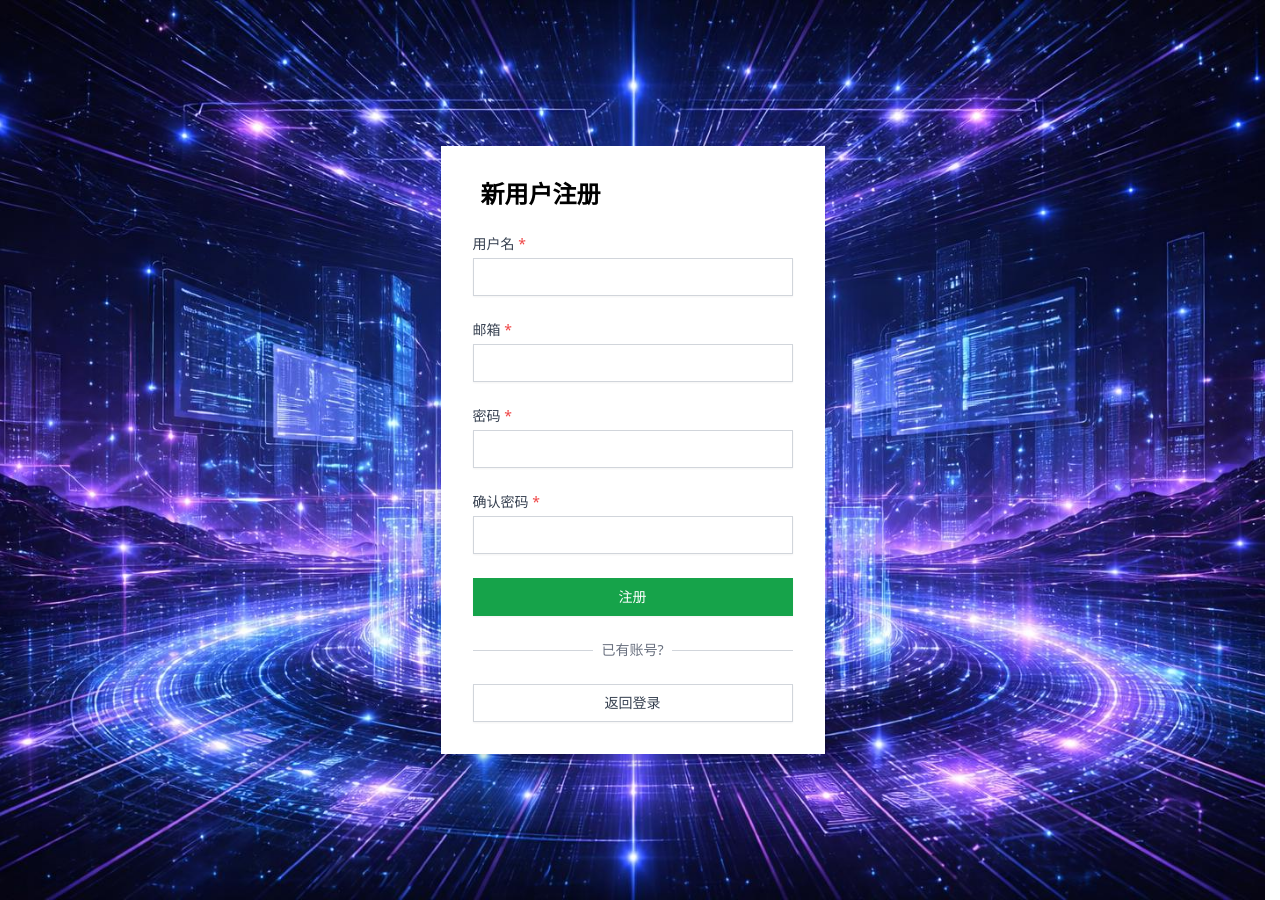
Test case: Register (branch coverage) › shows fallback error when register request throws non-Error
Type "testuser" into the field labelled "用户名 *" at (632, 277), box [472,258,792,296]
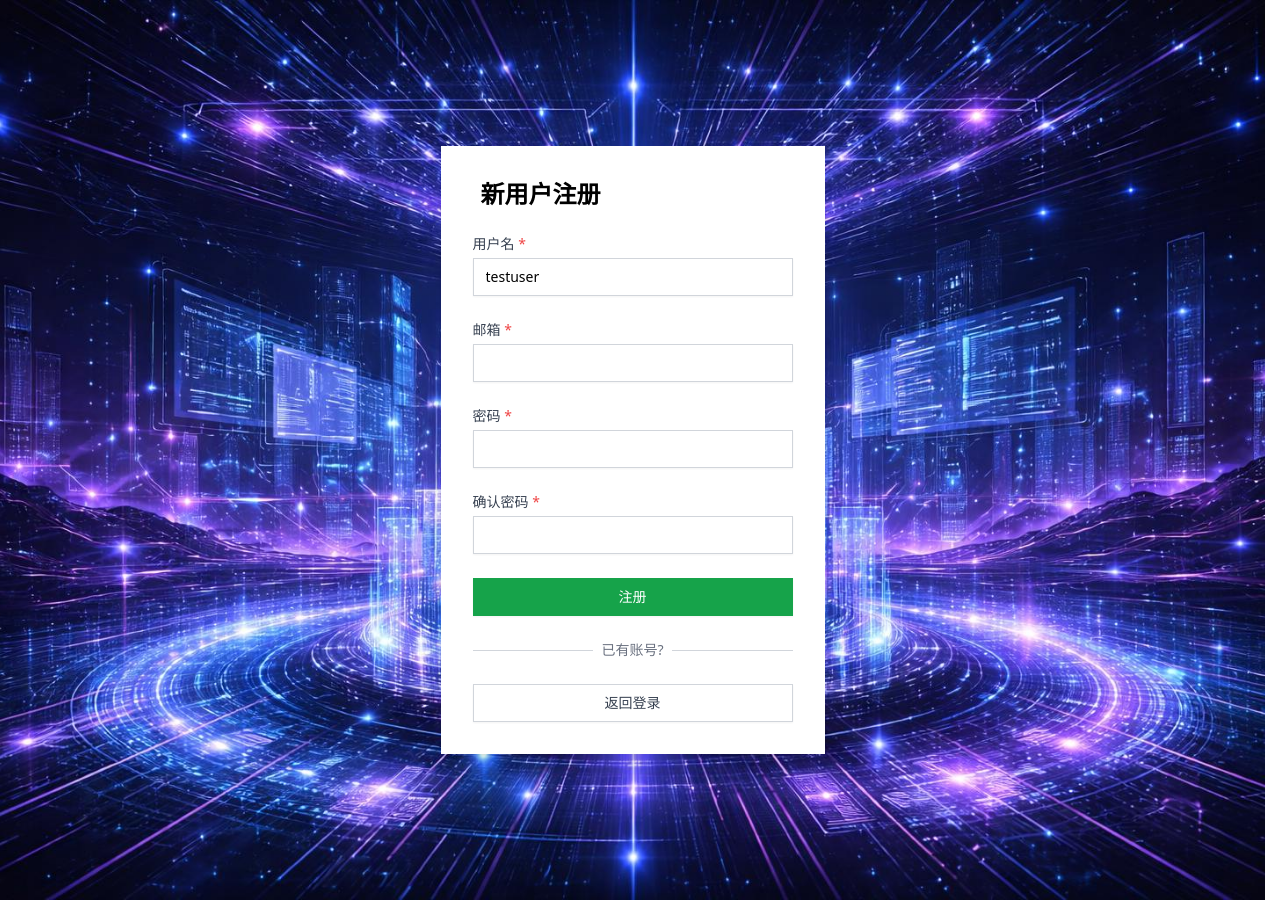
Type "test@example.com" into the field labelled "邮箱 *" at (632, 363), box [472,344,792,382]
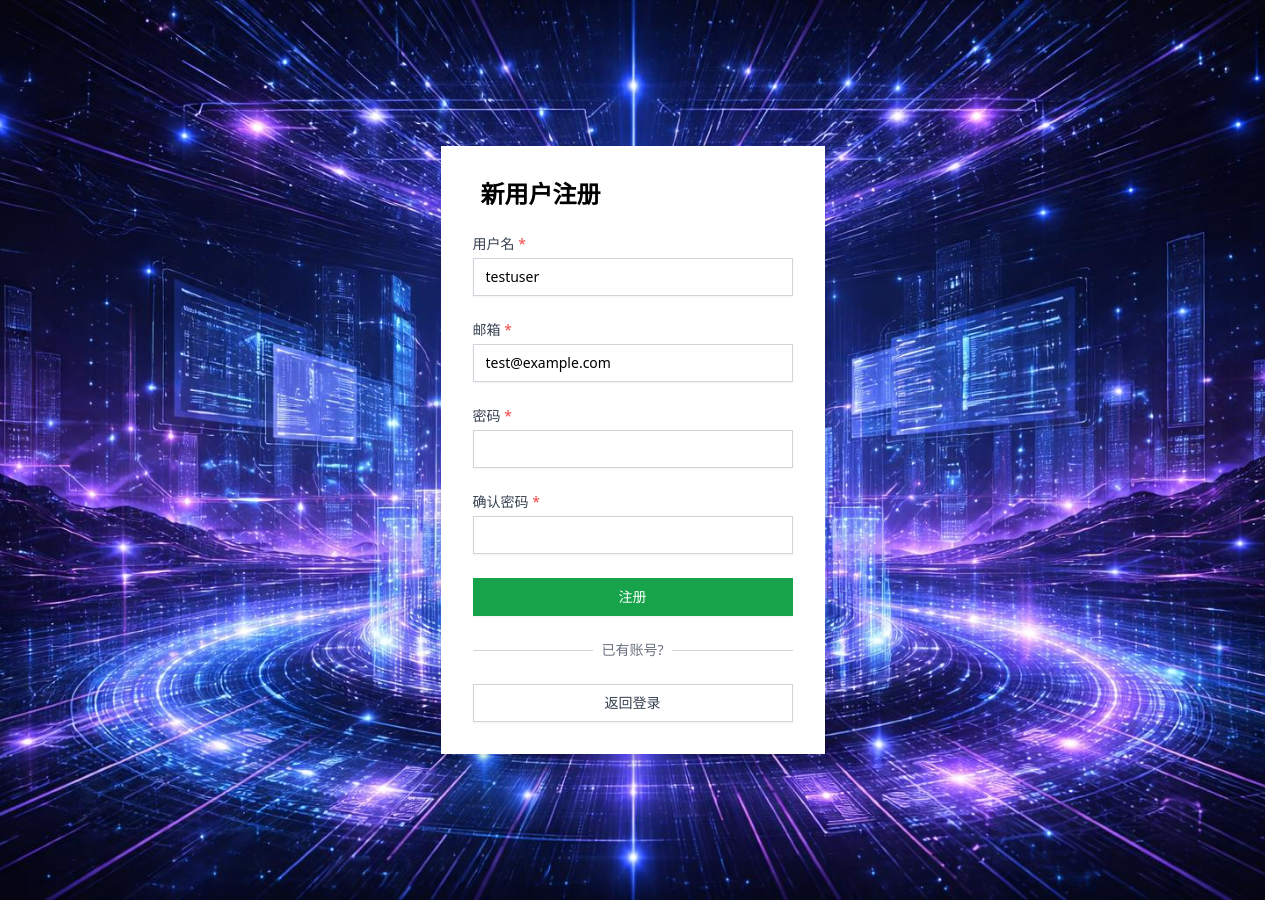
Type "123456" into the password field labelled "密码 *" at (632, 449), box [472,430,792,468]
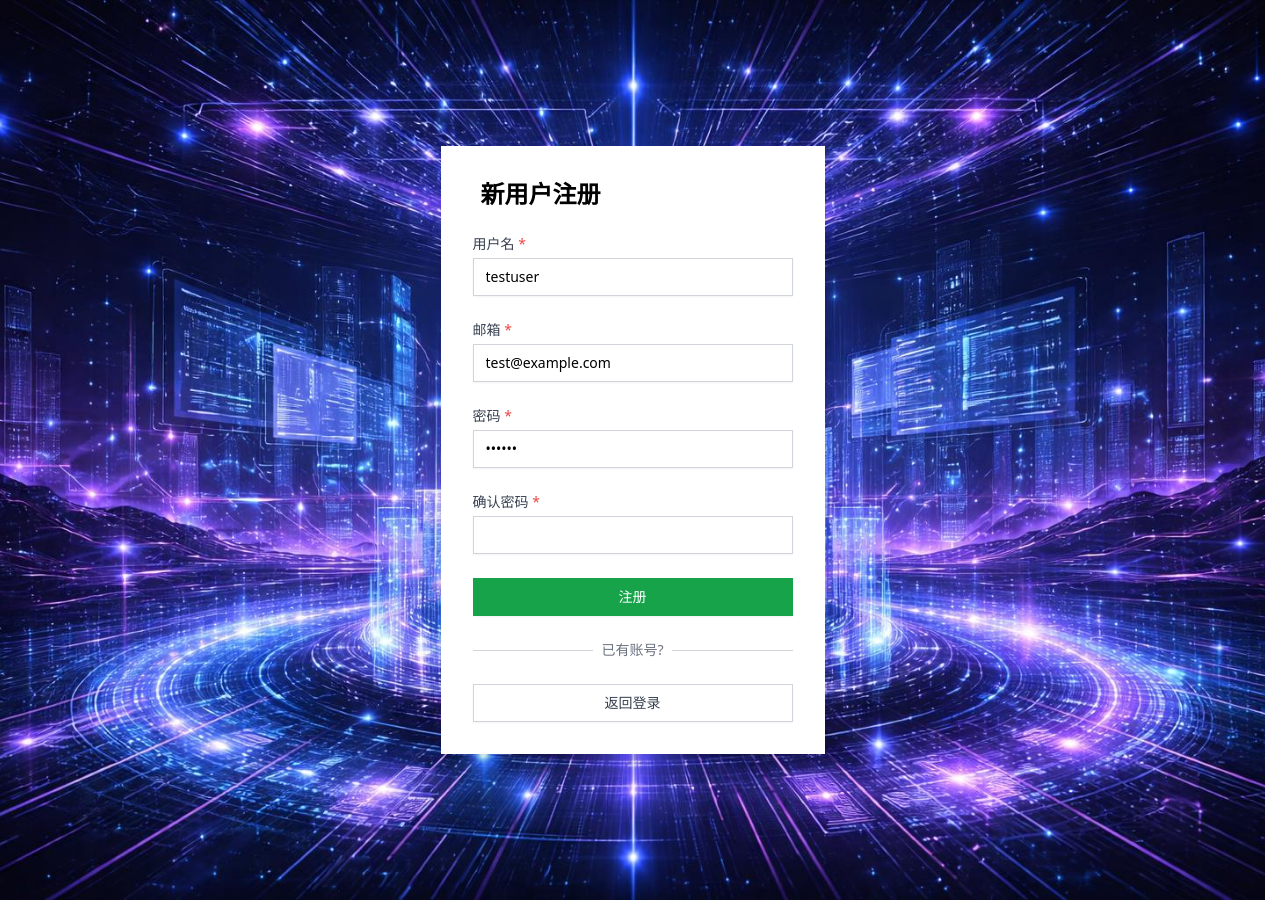
Type "123456" into the password field labelled "确认密码 *" at (632, 535), box [472,516,792,554]
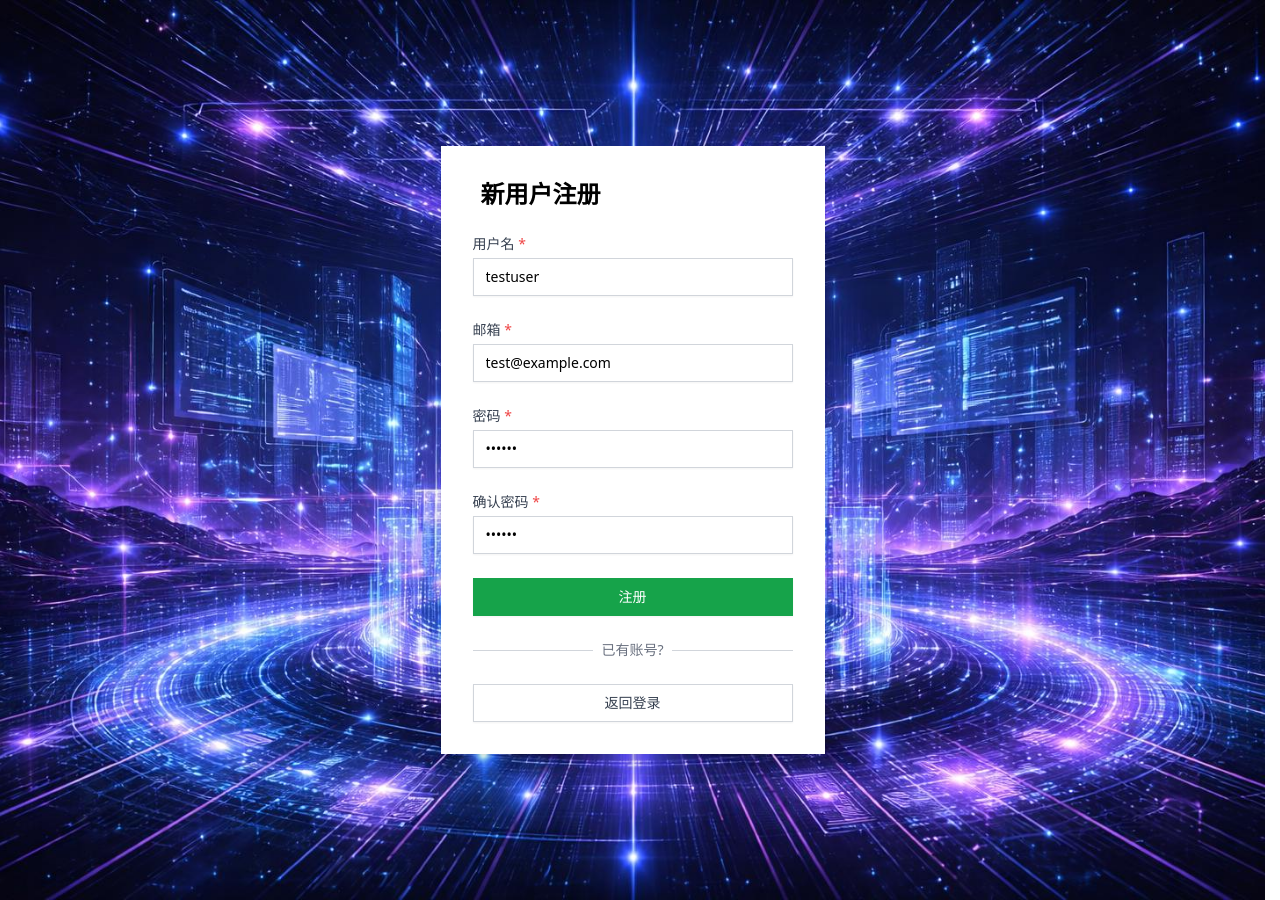
Click the button "注册" at (632, 597), box [472,578,792,616]
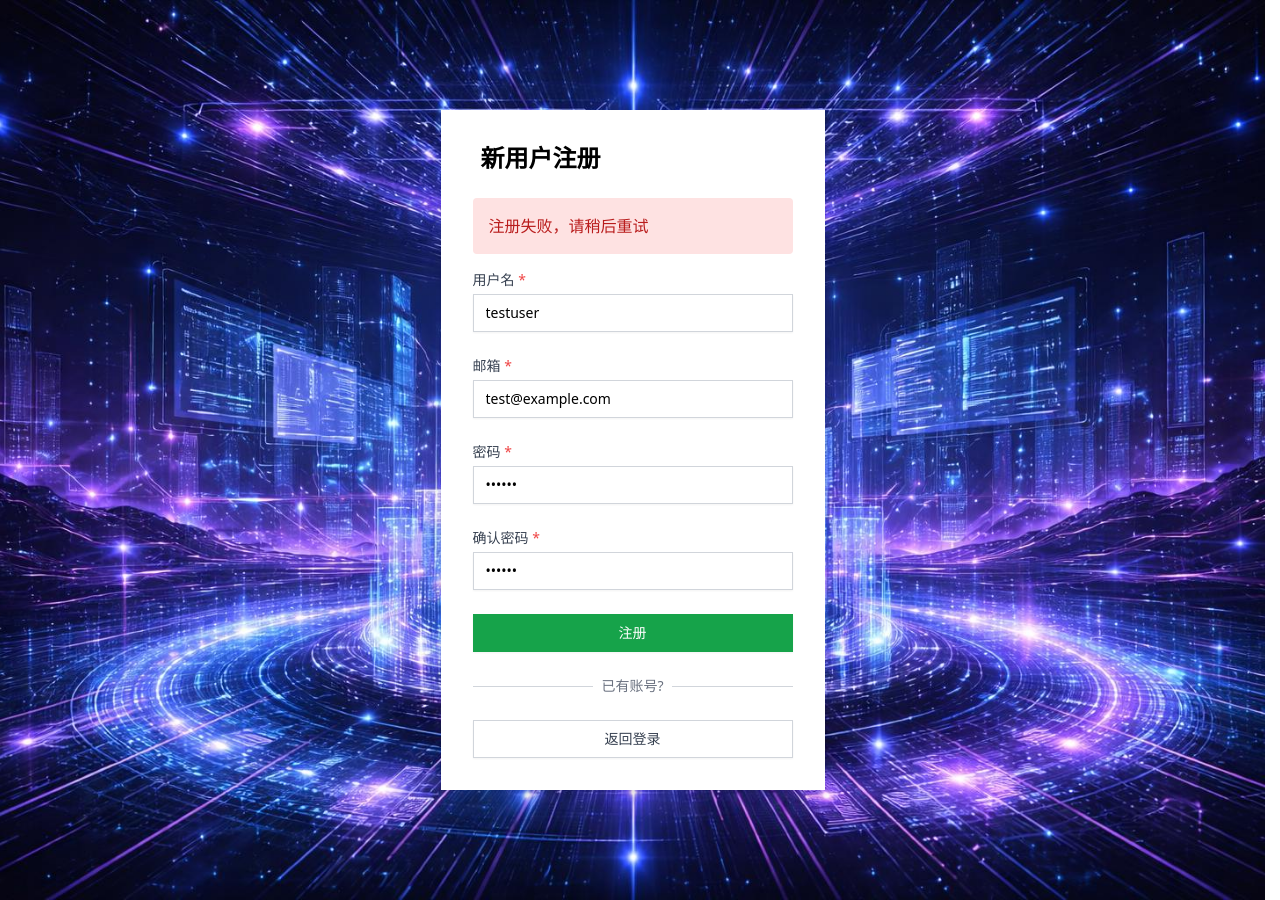
Check: the text "注册失败，请稍后重试" is shown, box [488,215,648,237]
